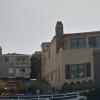Chimney: (54, 18, 67, 56)
